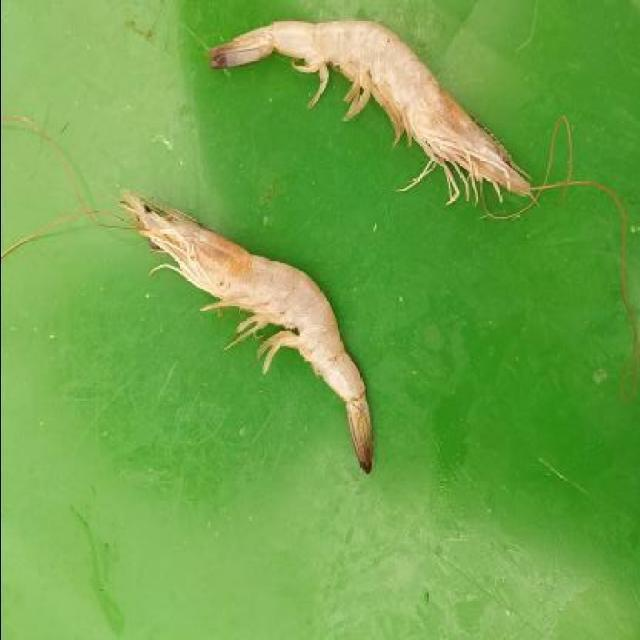shrimp: (117, 177, 381, 483), (198, 8, 558, 196)
